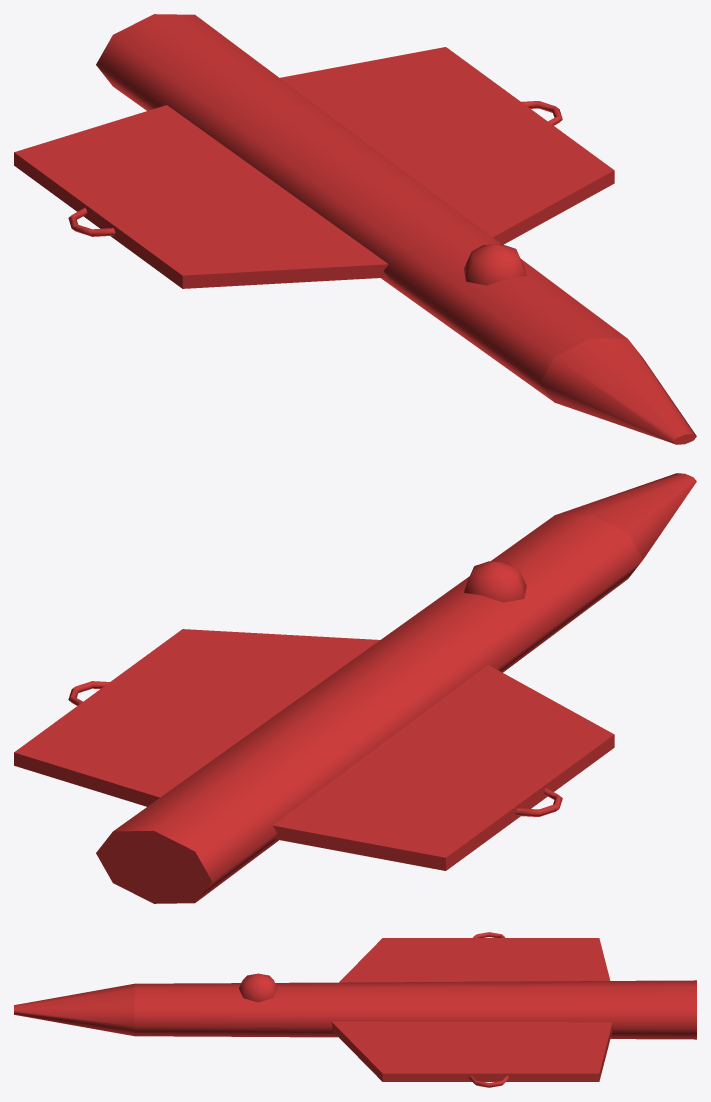
The model's file is fighter-hammerhead-402.glb.
The picture shows the model from 3 angles, top to bottom: view 1: azimuth 30°, elevation 25°; view 2: azimuth 150°, elevation 25°; view 3: azimuth 270°, elevation 25°; orthographic projection. The views are drawn at different scales.
Bounding box in the file's own units: 1.05 × 0.1896 × 1.98.
